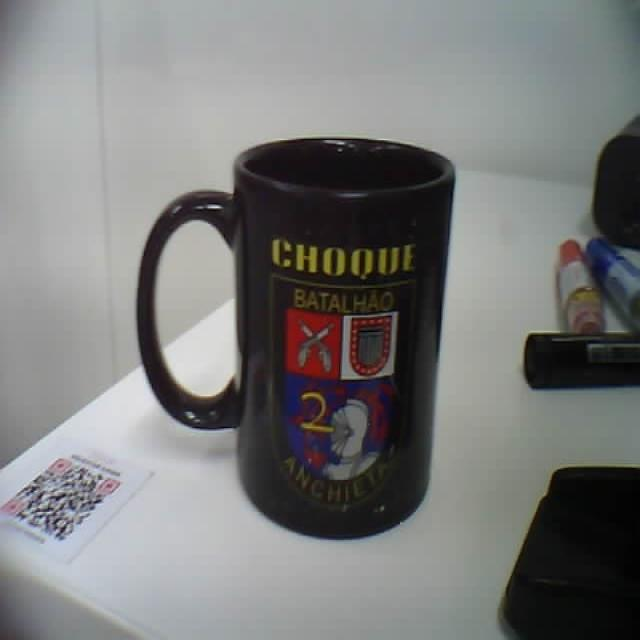caneca: (138, 139, 454, 536)
